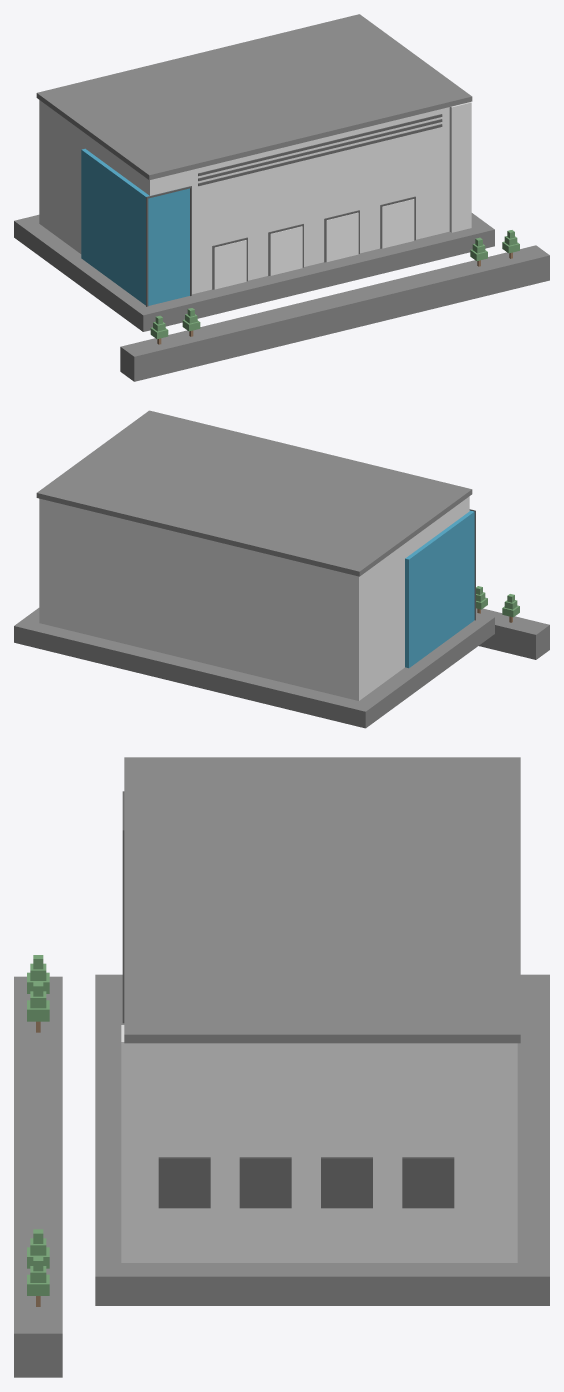
3 renders of one model, top to bottom at view 1: azimuth 30°, elevation 25°; view 2: azimuth 150°, elevation 25°; view 3: azimuth 270°, elevation 25°, orthographic. The views are drawn at different scales.
Size of the model in its own units: 52 by 20.6 by 33.
